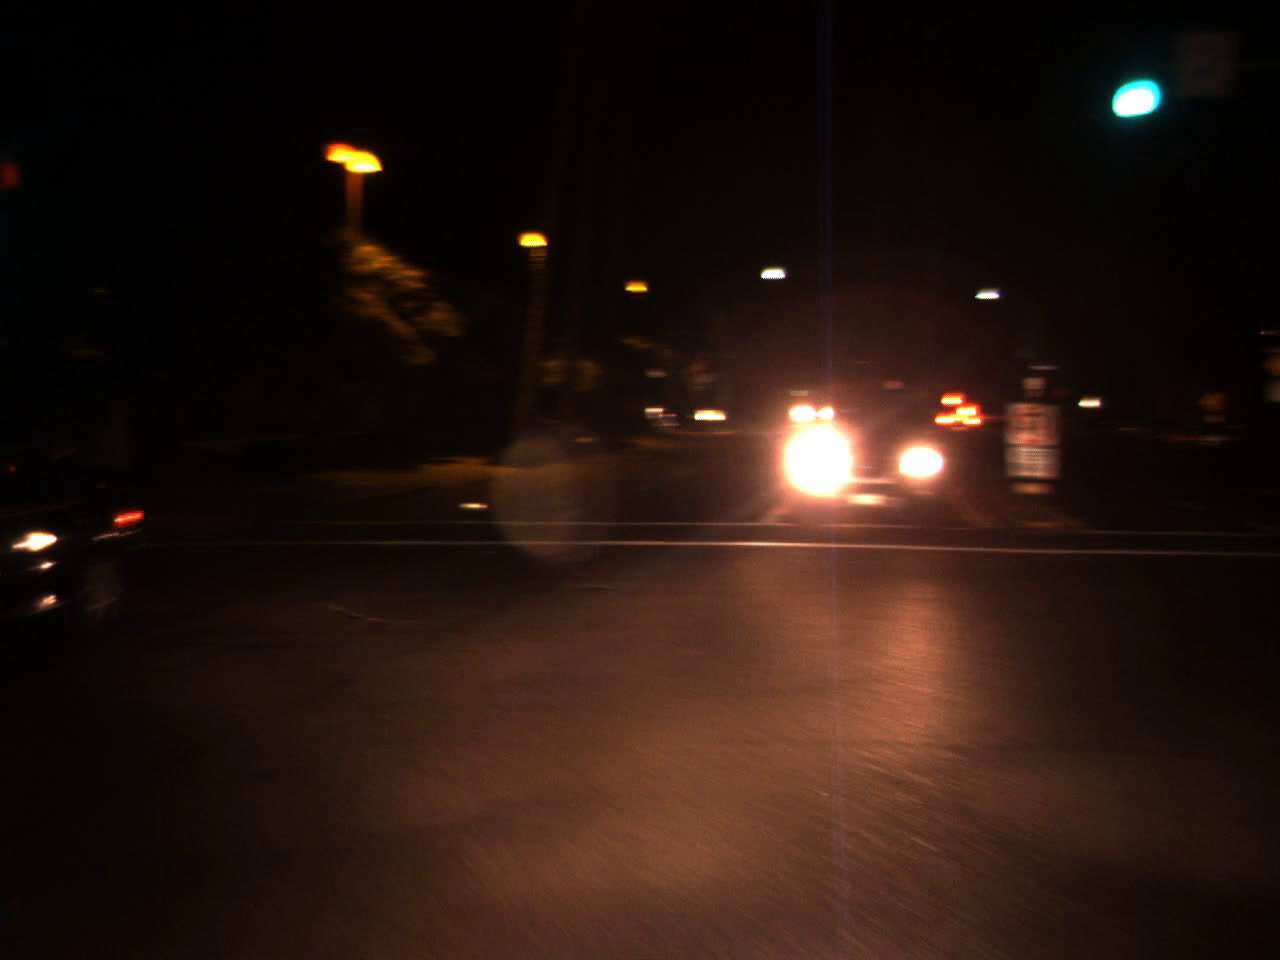go: (1101, 50, 1153, 128)
